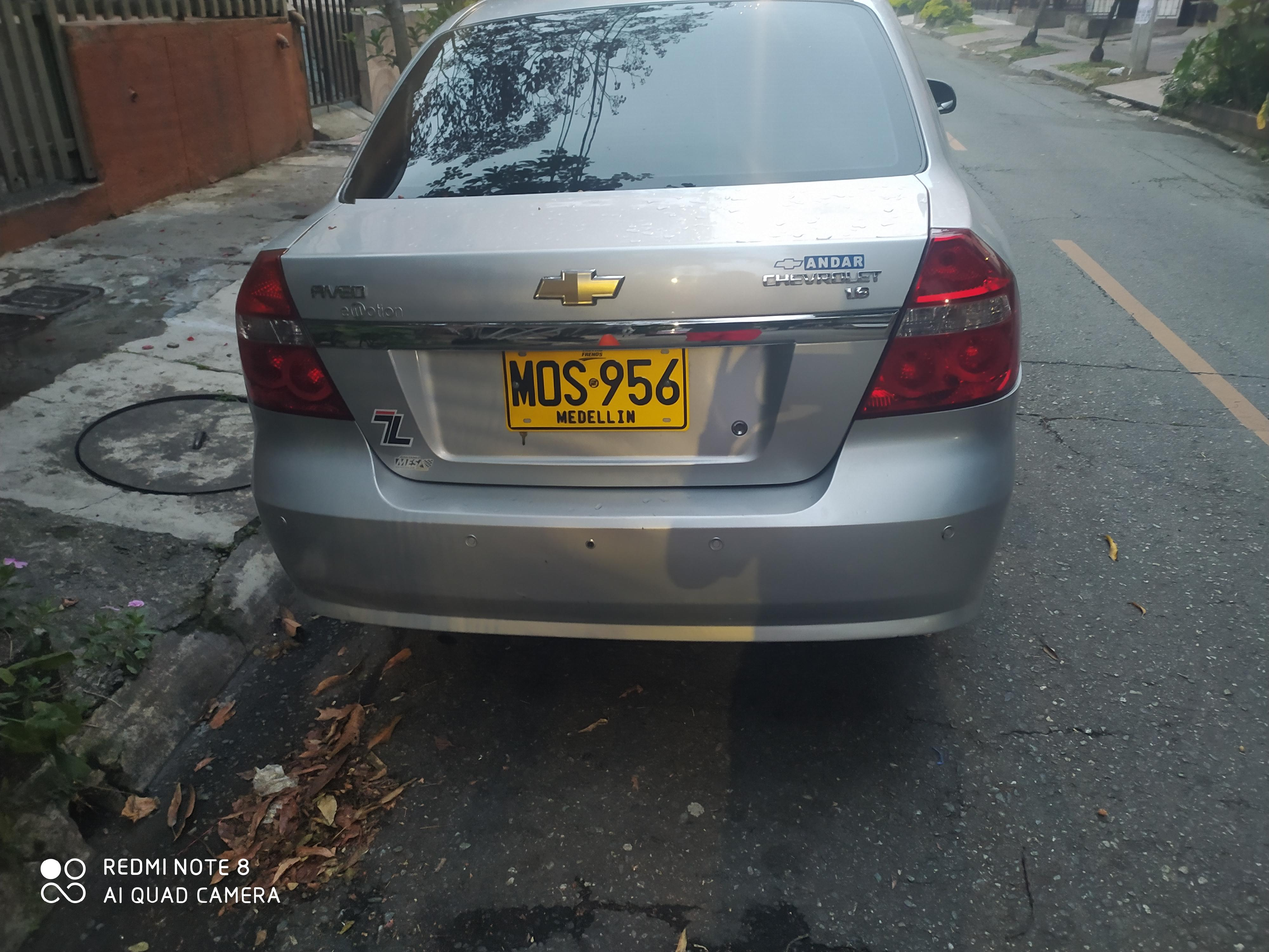placa: (494, 337, 698, 441)
